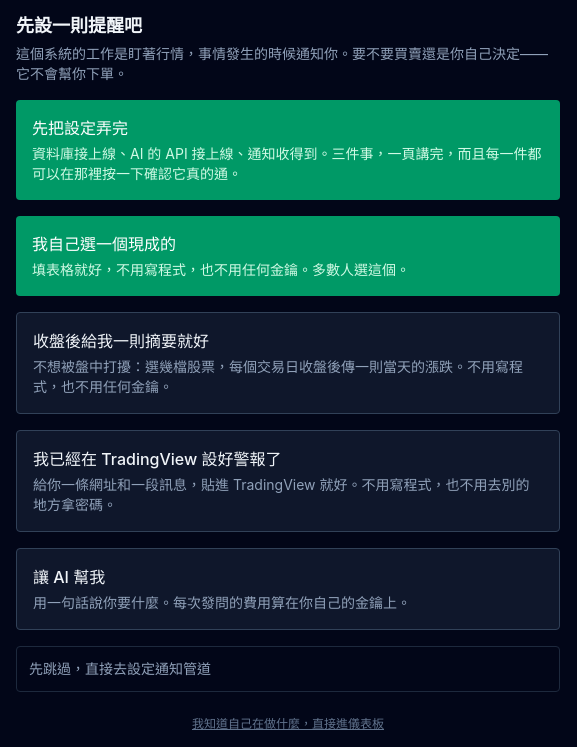
Test: 引導流程 › 已經有啟用中的管道時，這一步直接說它會送到哪裡
What coordinates should you click on to do the following:
click the button "先跳過，直接去設定通知管道"
I would click on:
 (120, 668)
Its box is [16,646,560,692].
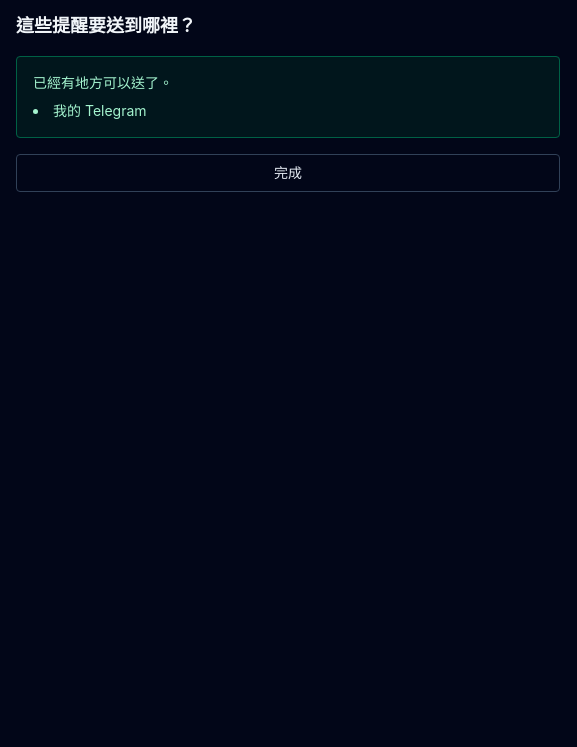
Now the list item "我的 Telegram" is shown, box [53,102,147,119]
